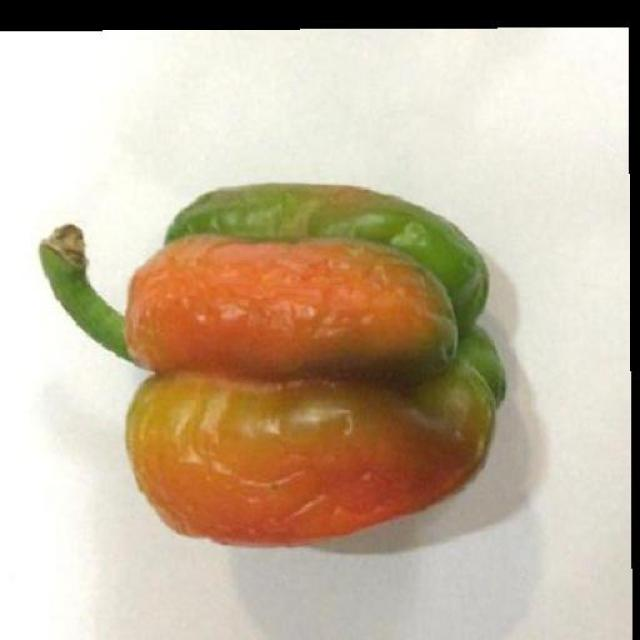Stale_Capsicum: (125, 168, 513, 535)
